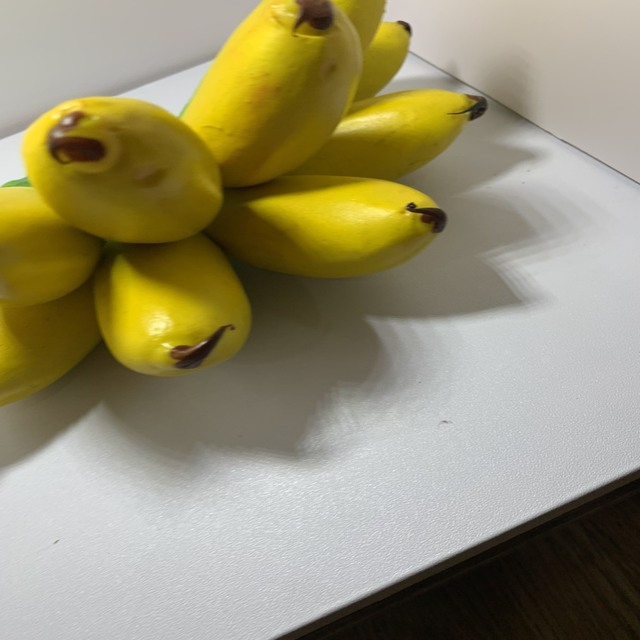Chuoi: (0, 0, 494, 409)
